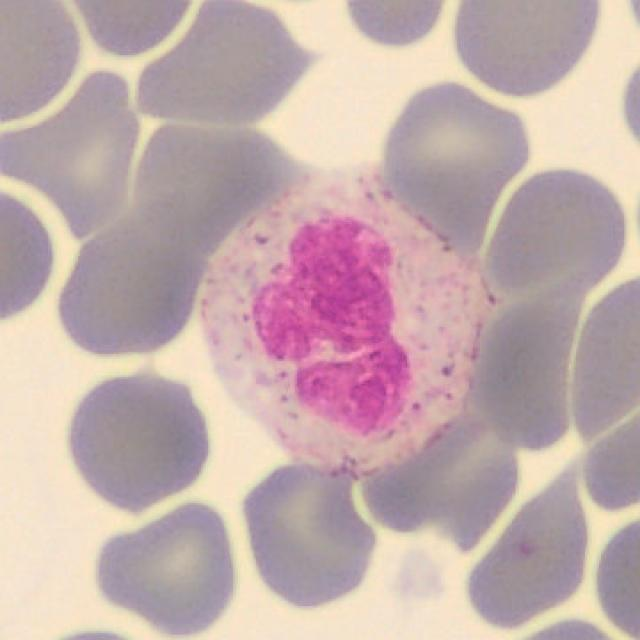Neutrofilo segmentado: (196, 164, 498, 482)
